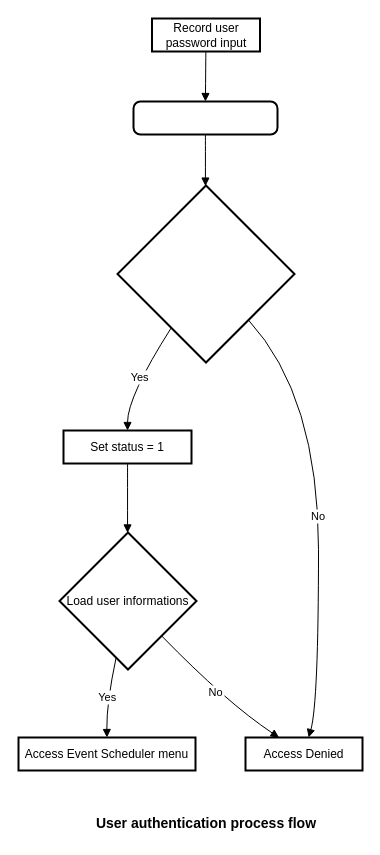
This 380x855 diagram has some shape labels left out. Here are the shapes that lost their labels. From the top down, the centre of each, then its label:
pixel 205 117: Encrypt user input
pixel 205 273: Compare hashed input with stored password hash. Valid credential ?
